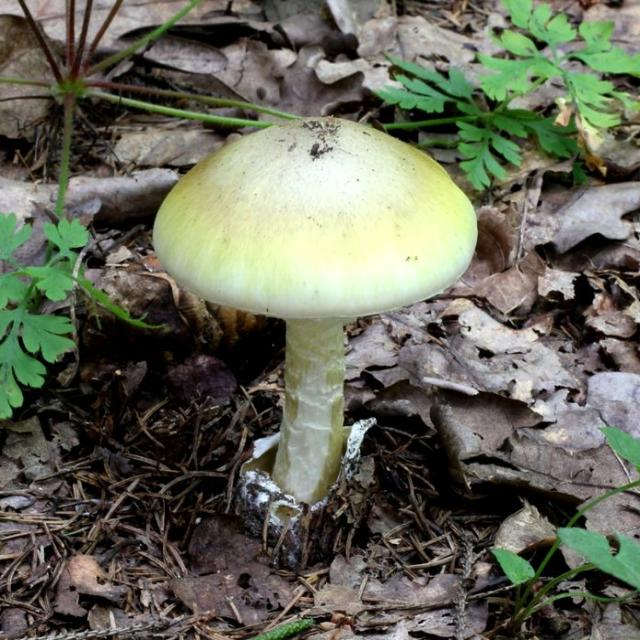death-cap: (151, 117, 479, 512)
